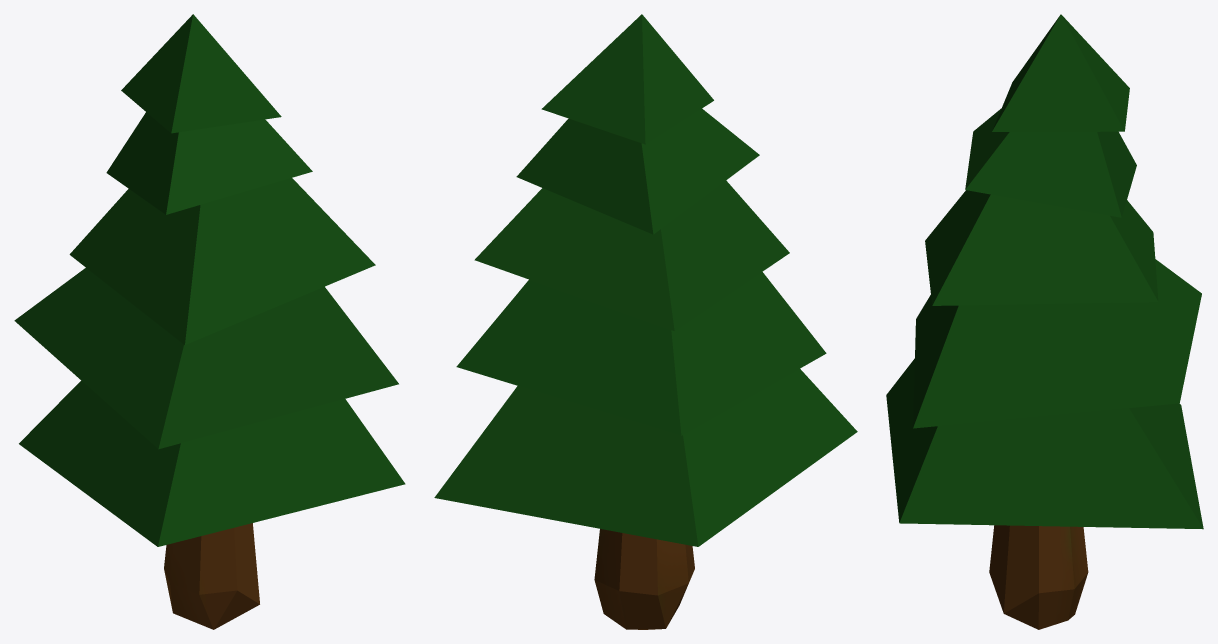
The model's file is tree9.fbx.
The picture shows the model from 3 angles, left to right: view 1: azimuth 30°, elevation 25°; view 2: azimuth 150°, elevation 25°; view 3: azimuth 270°, elevation 25°; orthographic projection. The views are drawn at different scales.
Parts seen in each view (by area): view 1: Куб.004; view 2: Куб.004; view 3: Куб.004.
Boxes of the visible parts, x1,y1,x2,y2 form: Куб.004: [14, 14, 405, 629]; Куб.004: [434, 14, 857, 629]; Куб.004: [886, 14, 1203, 629].
Size of the model in its own units: 229 by 522 by 246.
Materials: 1 (1 with a texture image).
